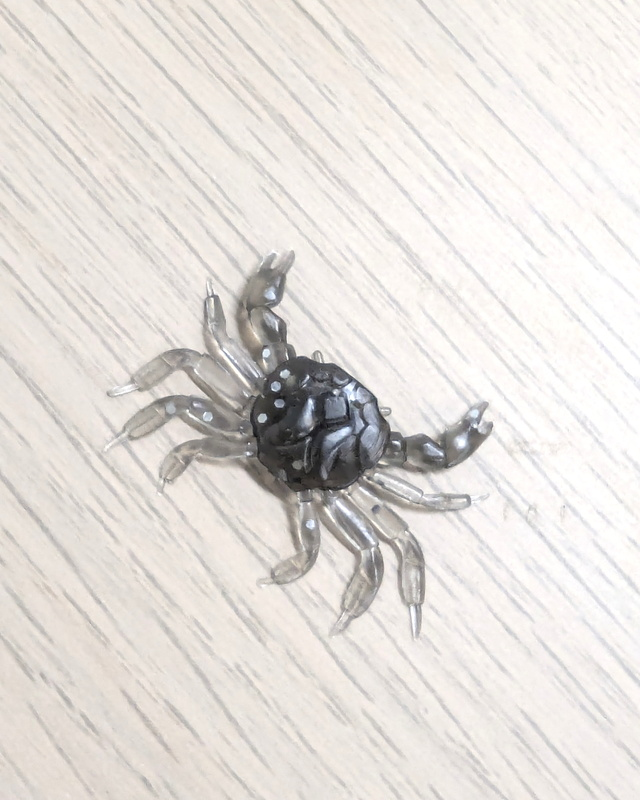crab1: (101, 246, 496, 641)
